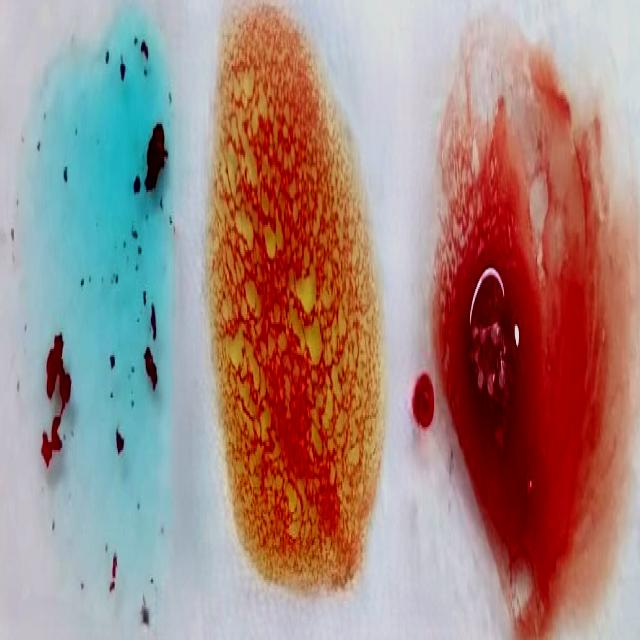A: (15, 25, 167, 640)
B: (220, 10, 370, 612)
D: (444, 24, 604, 636)
